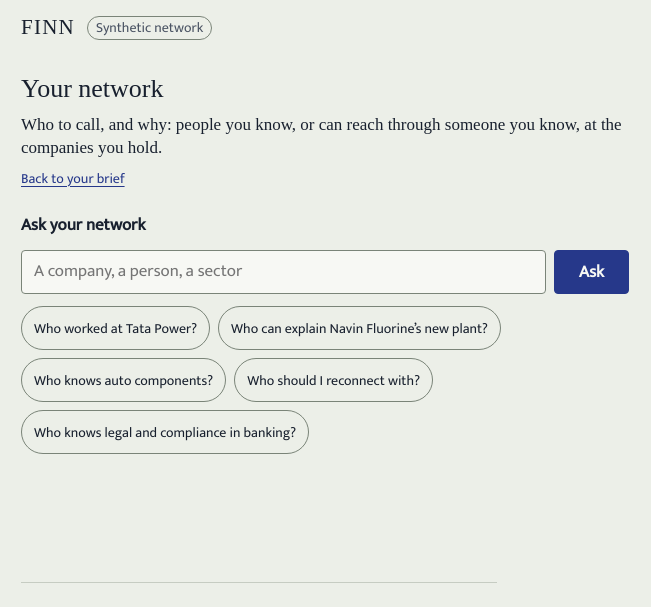
NetworkScreen › says plainly when this edition has no network
Type "Who knows banking?" into the search field labelled "Ask your network" at (284, 272), box x1=21 y1=250 x2=546 y2=294
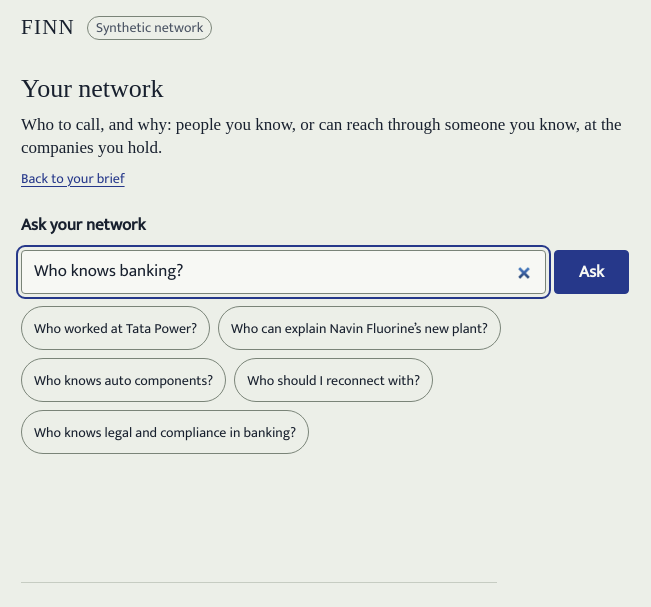
Click the button "Ask" at (592, 272), box x1=554 y1=250 x2=629 y2=294
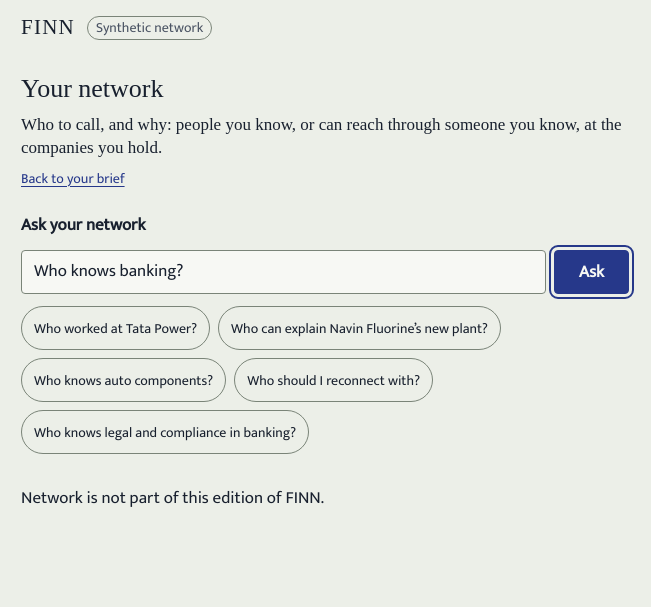
Check: the text "Network is not part of this edition of FINN." is shown, box x1=21 y1=484 x2=324 y2=512
